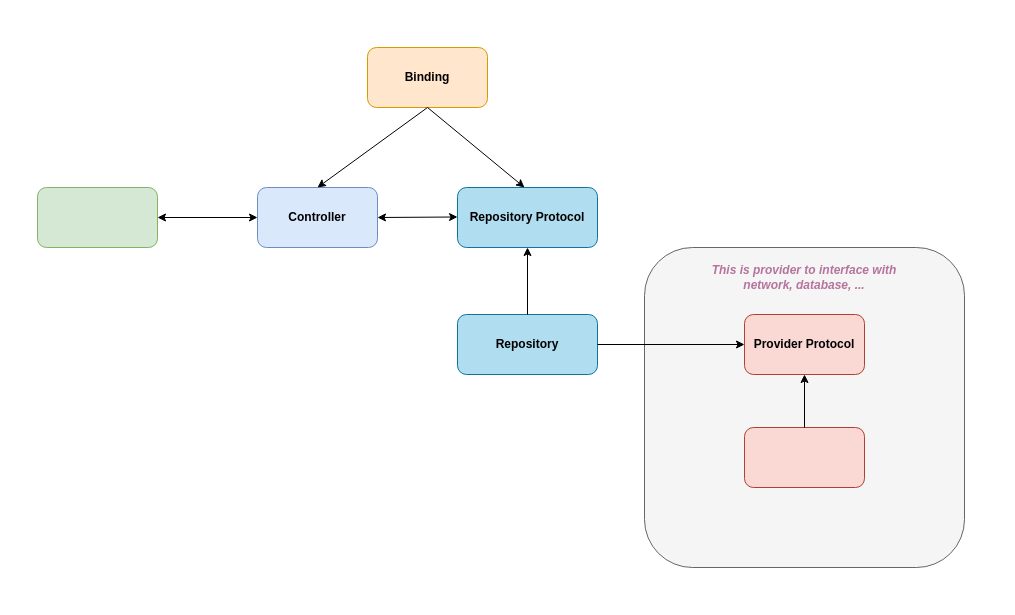
Image size: 1015x615. Some labels were removed from this diagram. The centre of each missing label's shape, as x and y in pixels:
Provider: the point at 804,457
View(UI): the point at 97,217
